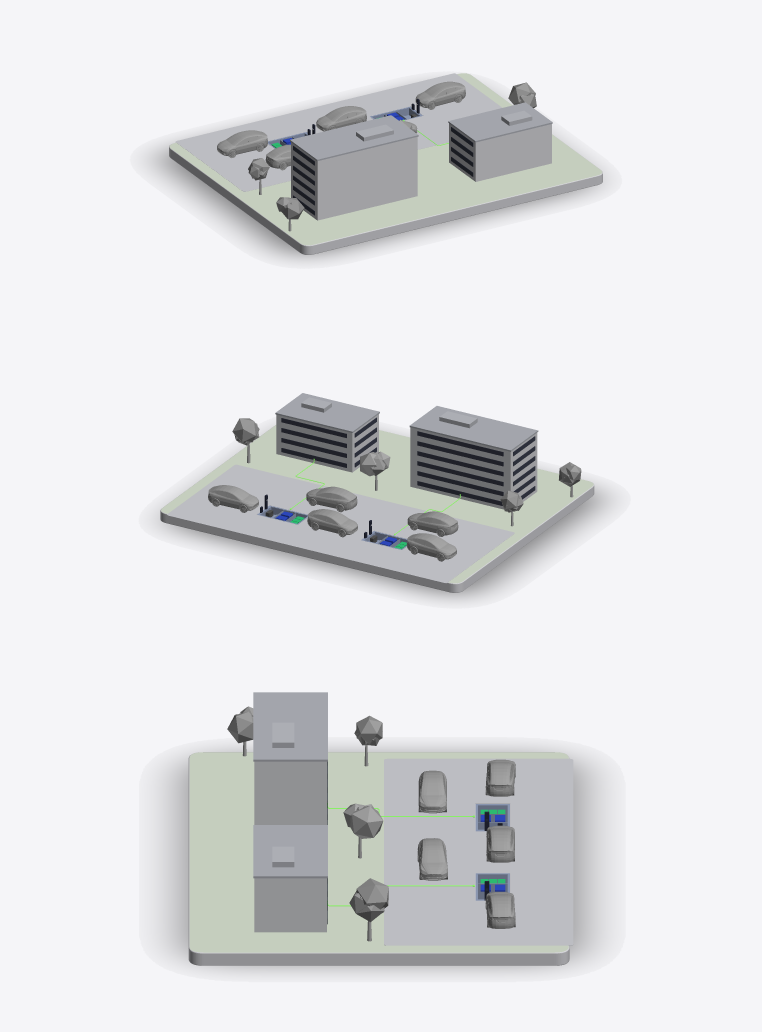
File: sett-scroll-gemeente-laadplein.glb
3 views of the same model, one above another, from view 1: azimuth 30°, elevation 25°; view 2: azimuth 150°, elevation 25°; view 3: azimuth 270°, elevation 25° (orthographic). The views are drawn at different scales.
Parts seen in each view (by area): view 1: building (×2), object 73, object 74, contact_shadow, car (×3); view 2: building (×2), object 73, object 74, contact_shadow, car (×5); view 3: object 73, object 74, building (×2), contact_shadow, car (×5), object 91, object 94, object 99, object 83.
Boxes of the visible parts, x1,y1,x2,y2 form: building (×2): (290, 102, 552, 220); object 73: (169, 73, 602, 254); object 74: (175, 73, 502, 191); contact_shadow: (155, 147, 592, 257); car (×3): (217, 81, 465, 157); building (×2): (275, 393, 538, 509); object 73: (160, 425, 594, 592); object 74: (167, 464, 514, 583); contact_shadow: (164, 488, 605, 597); car (×5): (208, 485, 458, 561); object 73: (188, 752, 569, 965); object 74: (384, 758, 573, 945); building (×2): (253, 692, 327, 932); contact_shadow: (170, 750, 594, 968); car (×5): (417, 759, 515, 928); object 91: (350, 806, 383, 838); object 94: (356, 878, 388, 909); object 99: (227, 711, 253, 743); object 83: (356, 715, 382, 744).
Size of the model in its own units: 4647 by 714 by 4647.
Materials: 23 (1 with a texture image).
